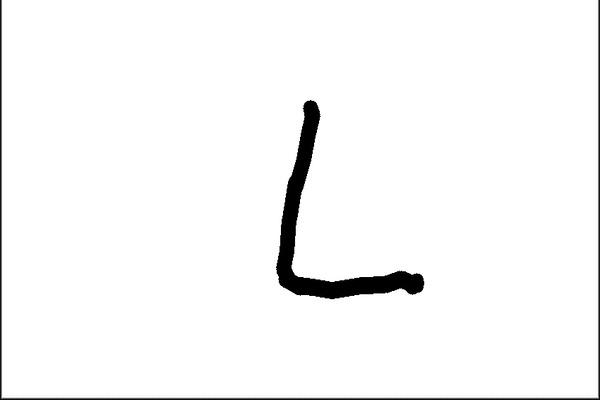L: (269, 93, 429, 306)
